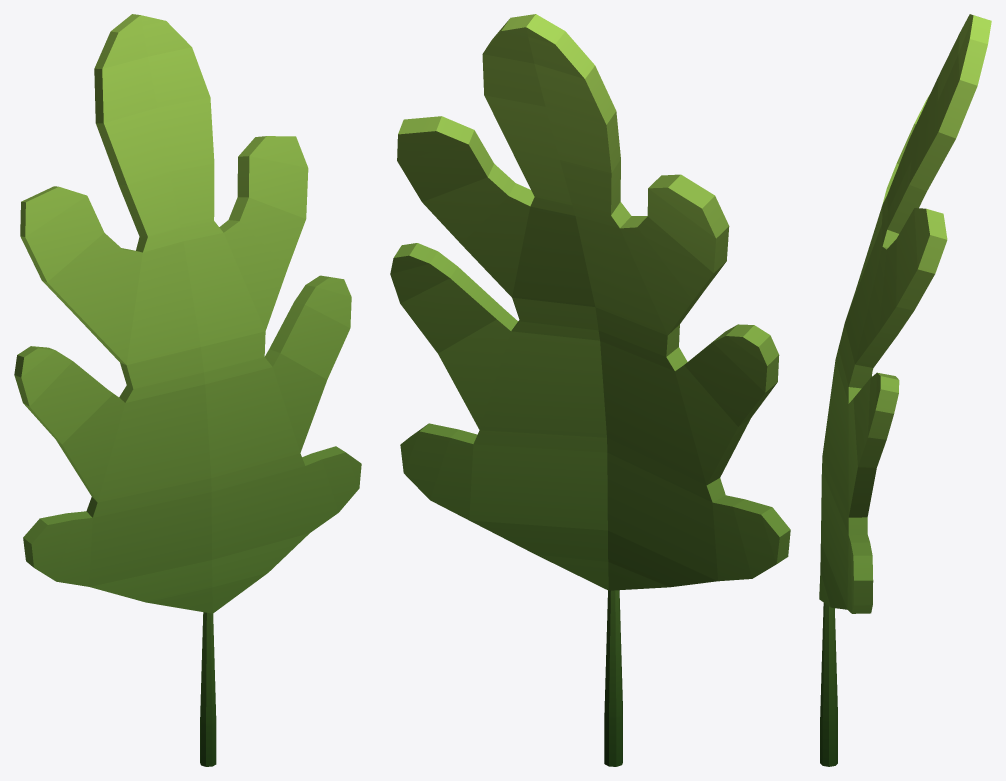
File: large sheet green.fbx
3 renders of one model, left to right at view 1: azimuth 30°, elevation 25°; view 2: azimuth 150°, elevation 25°; view 3: azimuth 270°, elevation 25°, orthographic. The views are drawn at different scales.
Parts seen in each view (by area): view 1: large sheet green; view 2: large sheet green; view 3: large sheet green.
Boxes of the visible parts, box(x1,y1,x2,y2) form: large sheet green: box(14, 14, 361, 766); large sheet green: box(390, 14, 790, 766); large sheet green: box(819, 14, 991, 766).
Bounding box in the file's own units: 220 × 446 × 93.24.
